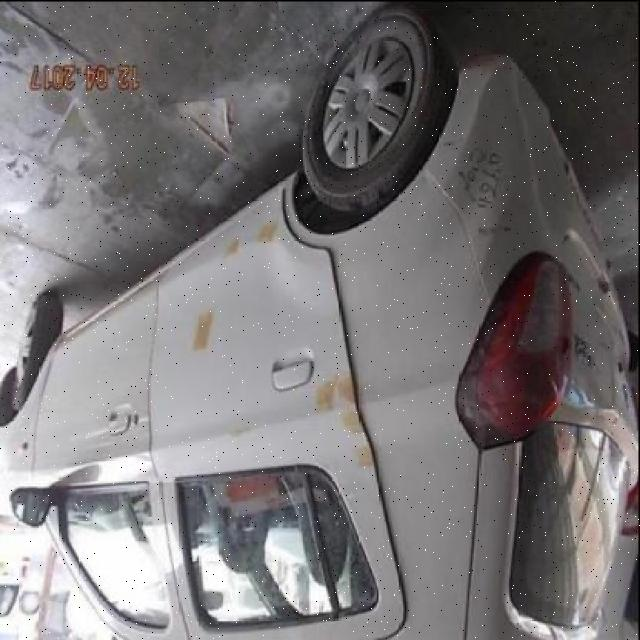damage: (189, 306, 214, 356), (475, 216, 515, 241), (256, 216, 283, 248), (313, 379, 336, 416), (340, 406, 365, 436), (334, 367, 355, 400), (355, 442, 375, 474), (225, 421, 256, 440), (225, 230, 244, 254)
